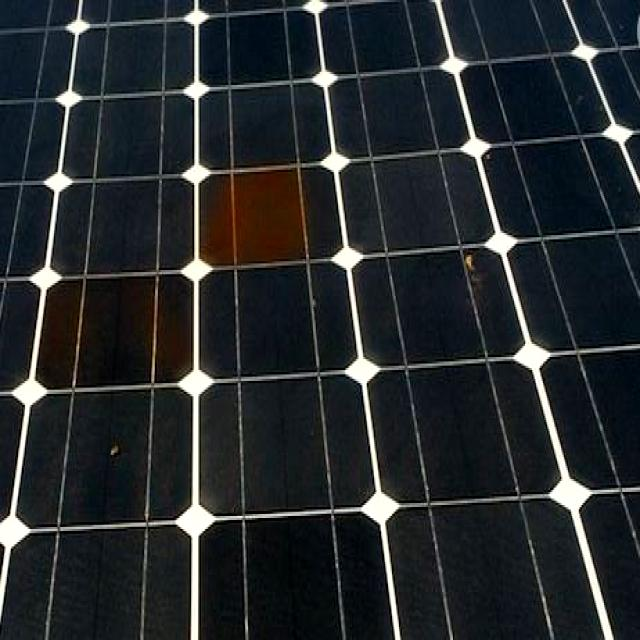shadow: (17, 282, 205, 389), (184, 154, 332, 273)
